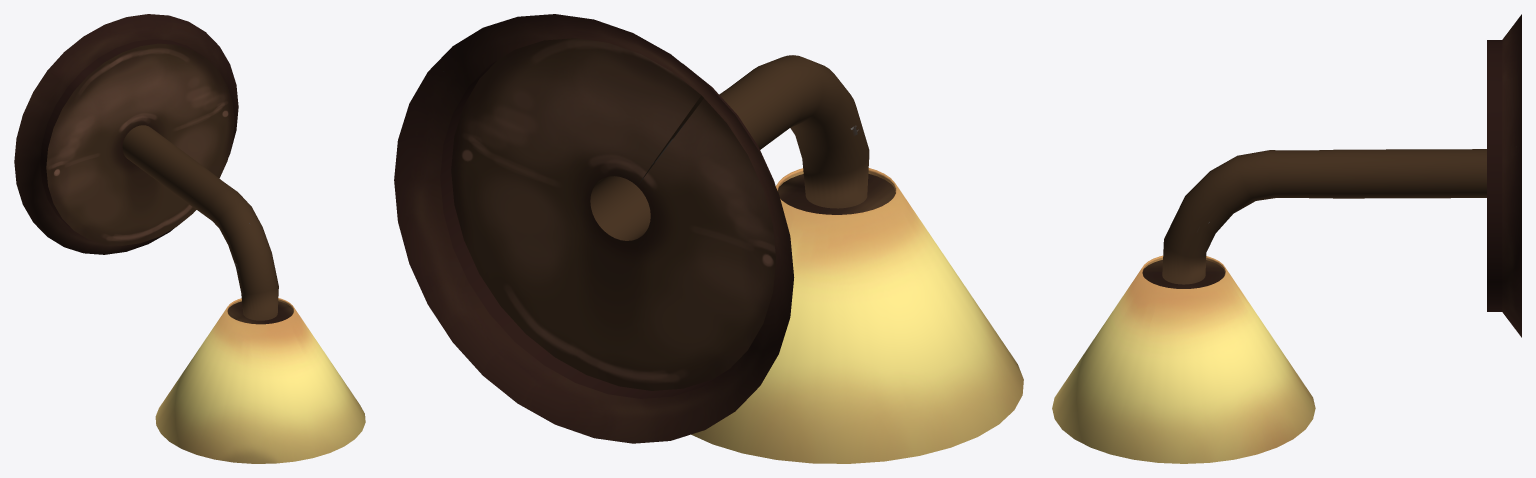
The model's file is lampara (1).fbx.
3 renders of one model, left to right at view 1: azimuth 30°, elevation 25°; view 2: azimuth 150°, elevation 25°; view 3: azimuth 270°, elevation 25°, orthographic. The views are drawn at different scales.
Parts seen in each view (by area): view 1: Circle.001, Circle; view 2: Circle.001, Circle; view 3: Circle, Circle.001.
Part boxes in pixels (left/top/right/bottom): Circle.001: left=14, top=14, right=293, bottom=324; Circle: left=155, top=298, right=365, bottom=463; Circle.001: left=394, top=14, right=895, bottom=443; Circle: left=691, top=168, right=1023, bottom=463; Circle: left=1052, top=255, right=1315, bottom=463; Circle.001: left=1142, top=14, right=1521, bottom=337.
Size of the model in its own units: 20 by 25.85 by 28.98.
